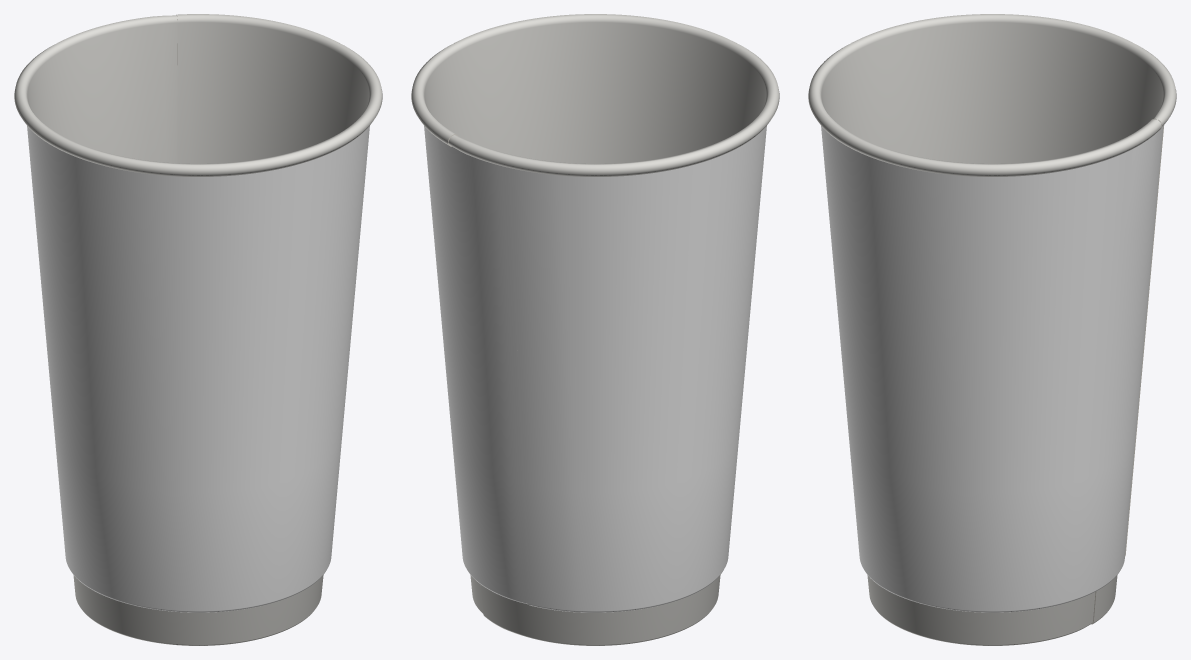
The picture shows the model from 3 angles, left to right: view 1: azimuth 30°, elevation 25°; view 2: azimuth 150°, elevation 25°; view 3: azimuth 270°, elevation 25°; orthographic projection.
Visible parts, largest first — view 1: Cup_Sleeve, Cup_Wall; view 2: Cup_Sleeve, Cup_Wall; view 3: Cup_Sleeve, Cup_Wall.
Part boxes in pixels (x1,y1,x2,y2): Cup_Sleeve: (27,126,369,612); Cup_Wall: (14,14,382,645); Cup_Sleeve: (424,126,766,612); Cup_Wall: (411,14,779,645); Cup_Sleeve: (821,125,1164,612); Cup_Wall: (808,14,1176,645).
Bounding box in the file's own units: 0.0897 × 0.1358 × 0.0897.
Materials: 3 (1 with a texture image).
